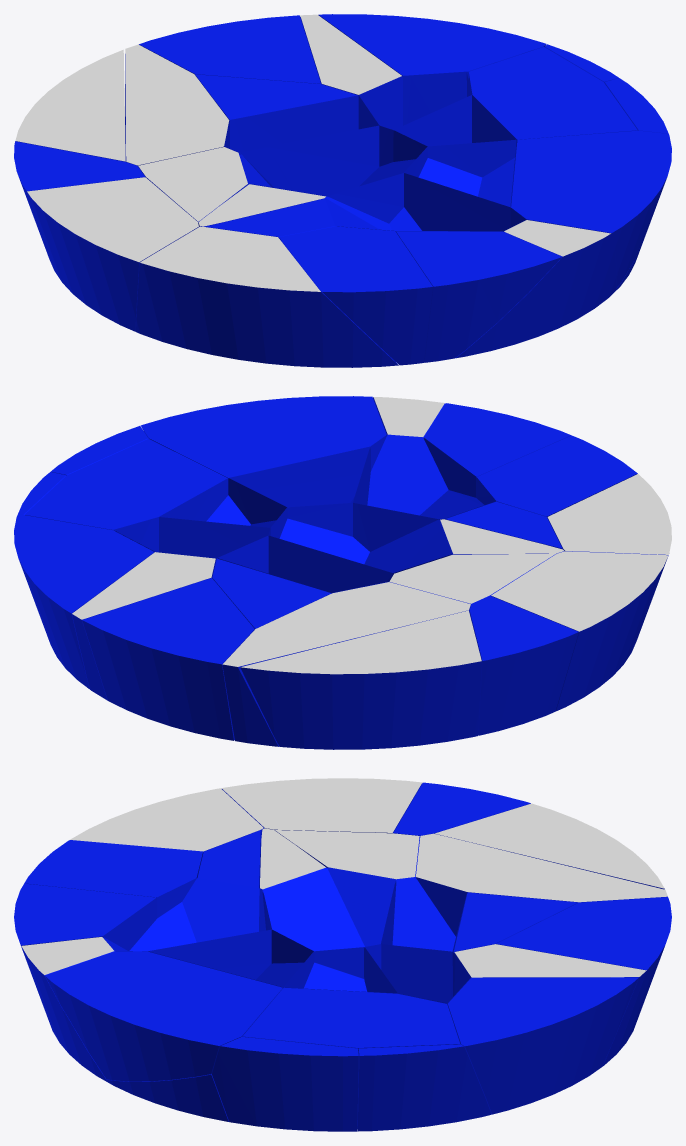
Rendered from Board_Blue_F.dae.
The picture shows the model from 3 angles, top to bottom: view 1: azimuth 30°, elevation 25°; view 2: azimuth 150°, elevation 25°; view 3: azimuth 270°, elevation 25°; orthographic projection.
Parts seen in each view (by area): view 1: Board_Blue_cell.001, Board_Blue_cell.010, Board_Blue_cell.021, Board_Blue_cell.022, Board_Blue_cell.005, Board_Blue_cell.016, Board_Blue_cell.023, Board_Blue_cell.014, Board_Blue_cell.006, Board_Blue_cell.024, Board_Blue_cell.028, Board_Blue_cell.018 (+13 smaller); view 2: Board_Blue_cell.003, Board_Blue_cell.028, Board_Blue_cell.021, Board_Blue_cell.010, Board_Blue_cell.014, Board_Blue_cell.024, Board_Blue_cell.011, Board_Blue_cell.016, Board_Blue_cell.006, Board_Blue_cell.018, Board_Blue_cell.022, Board_Blue_cell.001 (+13 smaller); view 3: Board_Blue_cell.010, Board_Blue_cell.024, Board_Blue_cell.026, Board_Blue_cell.016, Board_Blue_cell.012, Board_Blue_cell.014, Board_Blue_cell.028, Board_Blue_cell.021, Board_Blue_cell.006, Board_Blue_cell.003, Board_Blue_cell.018, Board_Blue_cell.022 (+14 smaller).
Part boxes in pixels (left/top/right/bottom): Board_Blue_cell.001: left=136, top=226, right=398, bottom=367; Board_Blue_cell.010: left=511, top=130, right=671, bottom=287; Board_Blue_cell.021: left=27, top=177, right=198, bottom=331; Board_Blue_cell.022: left=279, top=226, right=432, bottom=365; Board_Blue_cell.005: left=396, top=231, right=561, bottom=362; Board_Blue_cell.016: left=468, top=47, right=637, bottom=146; Board_Blue_cell.023: left=455, top=220, right=616, bottom=358; Board_Blue_cell.014: left=125, top=44, right=229, bottom=165; Board_Blue_cell.006: left=240, top=126, right=427, bottom=196; Board_Blue_cell.024: left=318, top=14, right=546, bottom=78; Board_Blue_cell.028: left=139, top=15, right=320, bottom=83; Board_Blue_cell.018: left=325, top=173, right=525, bottom=231; Board_Blue_cell.003: left=240, top=610, right=481, bottom=749; Board_Blue_cell.028: left=82, top=578, right=254, bottom=740; Board_Blue_cell.021: left=491, top=551, right=668, bottom=711; Board_Blue_cell.010: left=141, top=396, right=386, bottom=478; Board_Blue_cell.014: left=222, top=582, right=470, bottom=746; Board_Blue_cell.024: left=14, top=515, right=154, bottom=689; Board_Blue_cell.011: left=469, top=595, right=578, bottom=735; Board_Blue_cell.016: left=25, top=438, right=227, bottom=530; Board_Blue_cell.006: left=269, top=503, right=451, bottom=575; Board_Blue_cell.018: left=353, top=435, right=495, bottom=519; Board_Blue_cell.022: left=476, top=435, right=637, bottom=517; Board_Blue_cell.001: left=547, top=474, right=671, bottom=654; Board_Blue_cell.010: left=45, top=951, right=282, bottom=1081; Board_Blue_cell.024: left=447, top=977, right=638, bottom=1114; Board_Blue_cell.026: left=212, top=1037, right=358, bottom=1131; Board_Blue_cell.016: left=242, top=987, right=460, bottom=1050; Board_Blue_cell.012: left=357, top=1044, right=491, bottom=1131; Board_Blue_cell.014: left=416, top=833, right=667, bottom=902; Board_Blue_cell.028: left=496, top=897, right=671, bottom=1053; Board_Blue_cell.021: left=221, top=778, right=422, bottom=833; Board_Blue_cell.006: left=263, top=868, right=395, bottom=951; Board_Blue_cell.003: left=434, top=803, right=664, bottom=889; Board_Blue_cell.018: left=103, top=878, right=271, bottom=951; Board_Blue_cell.022: left=24, top=840, right=202, bottom=897.
Bounding box in the file's own units: 2 × 2 × 0.3.
